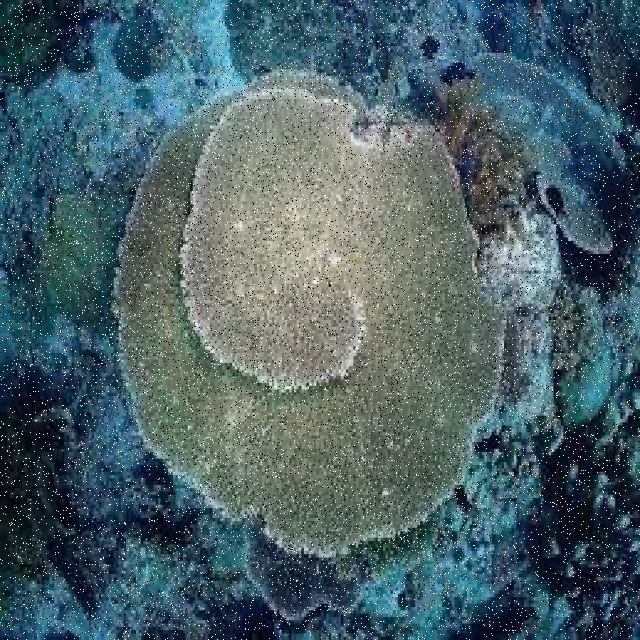Healthy: (114, 69, 505, 560)
